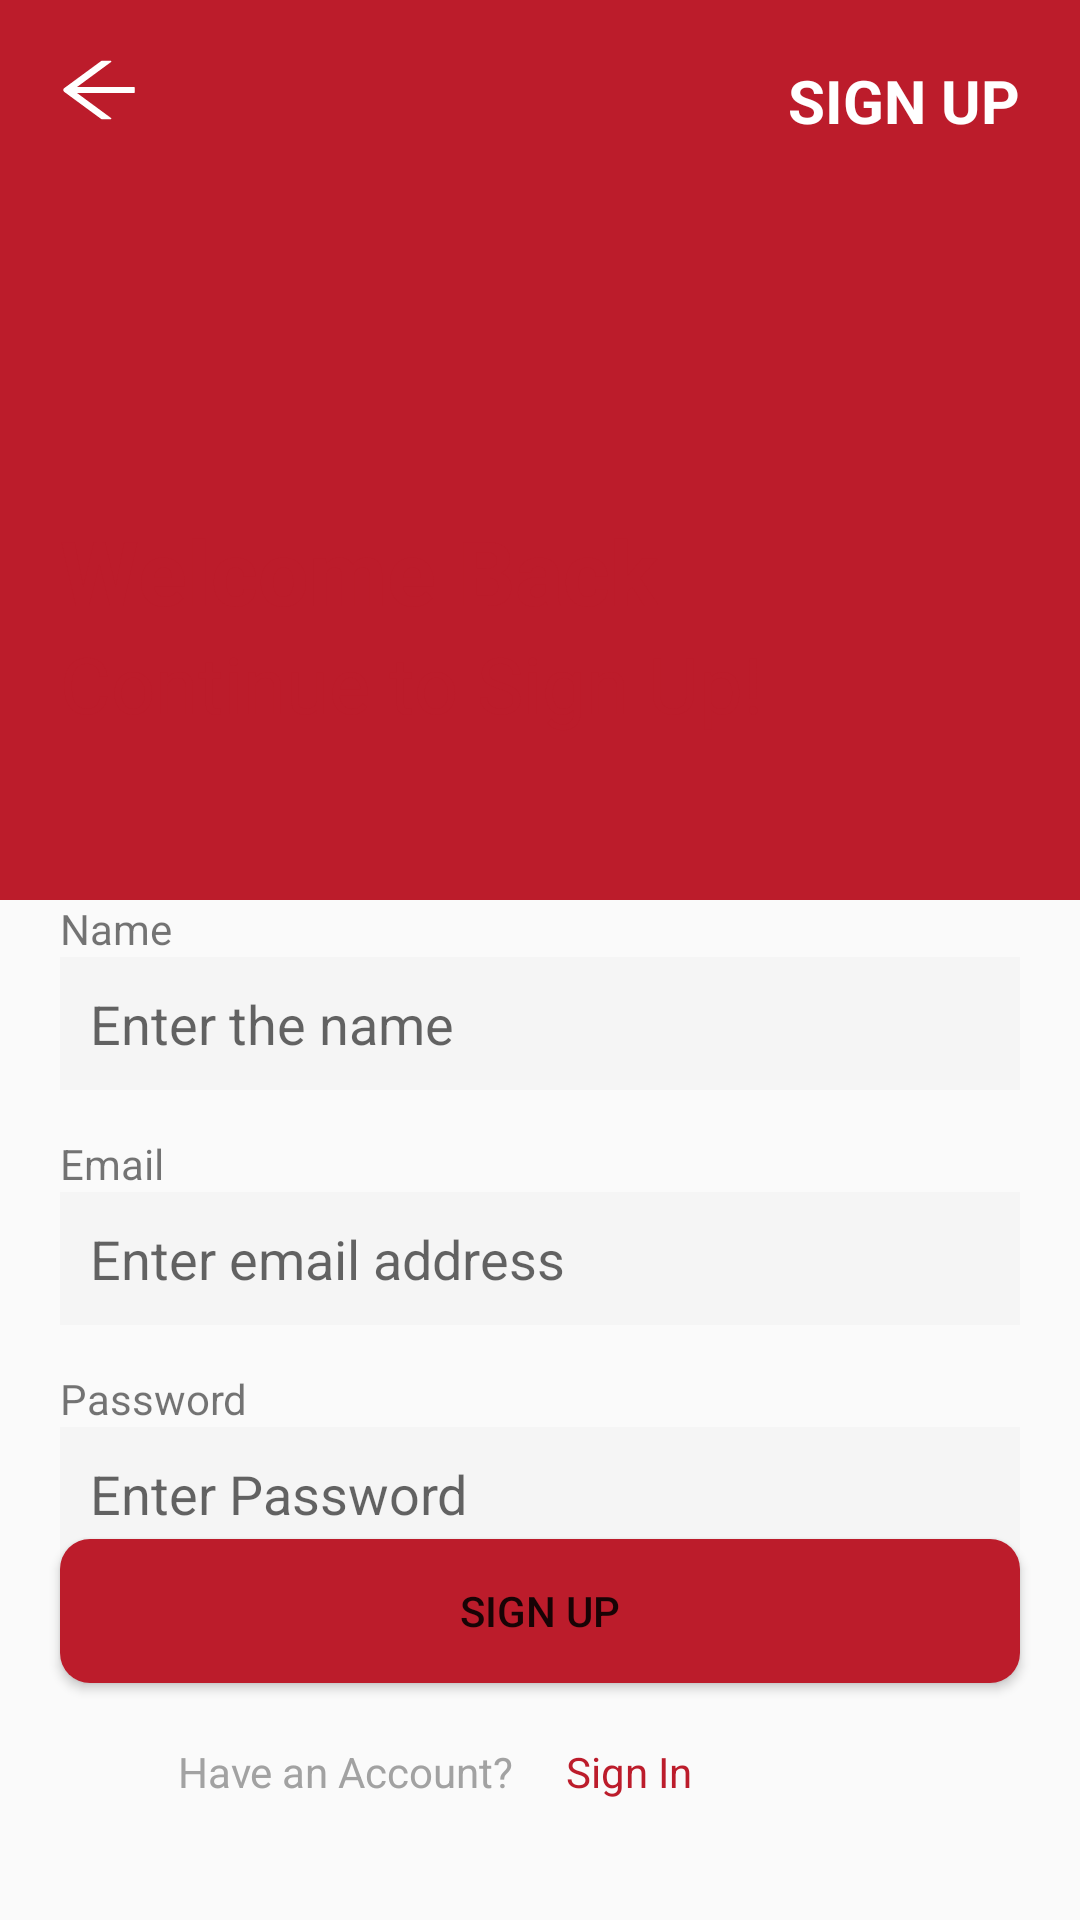

Icon click points for this 1080x1920 phone screenshot, format (x=x, y=y):
back: (x=99, y=90)
